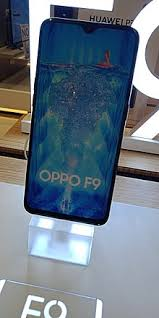oppo: (22, 17, 140, 225)
